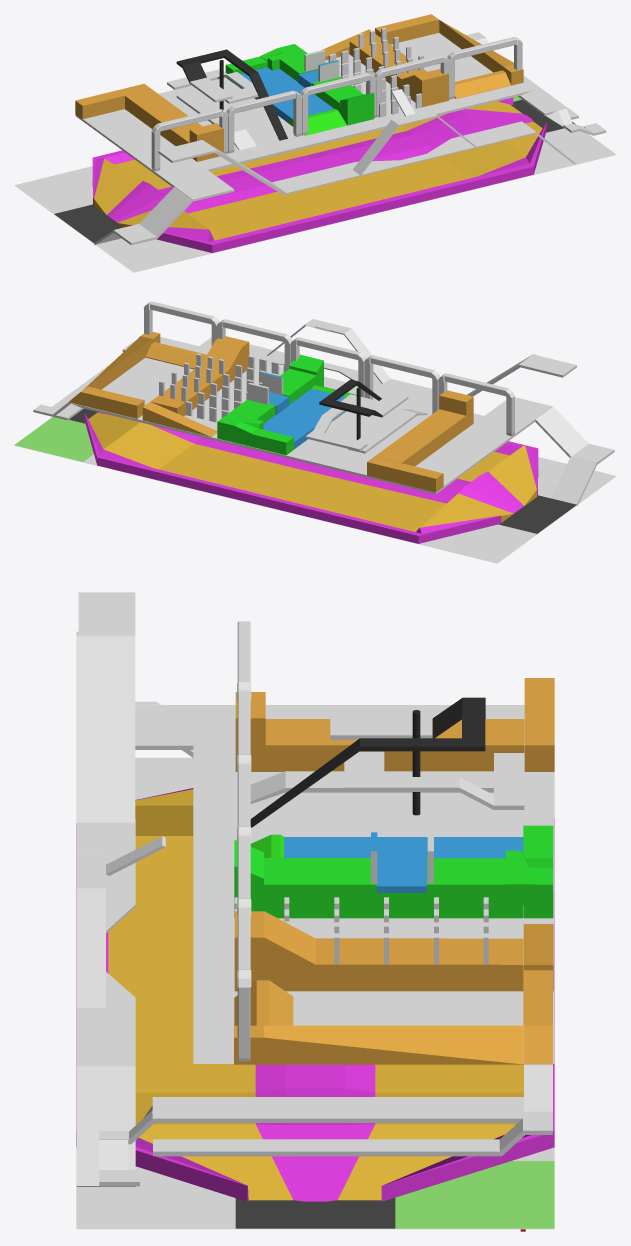
File: dcl_knockout_stadium.glb
The picture shows the model from 3 angles, top to bottom: view 1: azimuth 30°, elevation 25°; view 2: azimuth 150°, elevation 25°; view 3: azimuth 270°, elevation 25°; orthographic projection. The views are drawn at different scales.
Parts seen in each view (by area): view 1: course0, game_floor, course, c3, arches, spectator_ramp, c2, c1, player_ramp, c5, c4, front_ramp (+6 smaller); view 2: course0, game_floor, c3, arches, c1, player_ramp, course, c2, c4, c5, spectator_ramp, plane0 (+5 smaller); view 3: course0, game_floor, c3, front_ramp, spectator_ramp, c4, c5, c2, c1, ramp_upper, course, plane0 (+5 smaller).
Part boxes in pixels (bbox=[...]): course0: bbox=[92, 97, 546, 252]; game_floor: bbox=[75, 33, 533, 179]; course: bbox=[14, 128, 616, 272]; c3: bbox=[225, 44, 374, 135]; arches: bbox=[151, 37, 522, 171]; spectator_ramp: bbox=[272, 89, 575, 195]; c2: bbox=[167, 49, 287, 150]; c1: bbox=[75, 83, 223, 171]; player_ramp: bbox=[94, 162, 234, 245]; c5: bbox=[375, 14, 523, 98]; c4: bbox=[321, 29, 448, 107]; front_ramp: bbox=[466, 32, 606, 135]; course0: bbox=[84, 412, 538, 543]; game_floor: bbox=[68, 337, 525, 494]; c3: bbox=[217, 354, 361, 455]; arches: bbox=[144, 301, 514, 436]; c1: bbox=[367, 390, 515, 492]; player_ramp: bbox=[474, 397, 614, 505]; course: bbox=[14, 445, 616, 563]; c2: bbox=[305, 379, 428, 453]; c4: bbox=[142, 336, 249, 436]; c5: bbox=[68, 332, 206, 418]; spectator_ramp: bbox=[199, 319, 432, 402]; plane0: bbox=[14, 417, 93, 461]; course0: bbox=[76, 788, 554, 1201]; game_floor: bbox=[193, 705, 554, 1063]; c3: bbox=[234, 825, 553, 918]; front_ramp: bbox=[99, 1064, 552, 1186]; spectator_ramp: bbox=[76, 819, 165, 1186]; c4: bbox=[234, 911, 553, 991]; c5: bbox=[234, 970, 552, 1064]; c2: bbox=[250, 697, 524, 827]; c1: bbox=[235, 678, 554, 771]; ramp_upper: bbox=[76, 631, 135, 822]; course: bbox=[76, 757, 554, 1229]; plane0: bbox=[395, 1161, 554, 1228].
Size of what is drawn, in the model's own units: 112 by 24.32 by 48.
